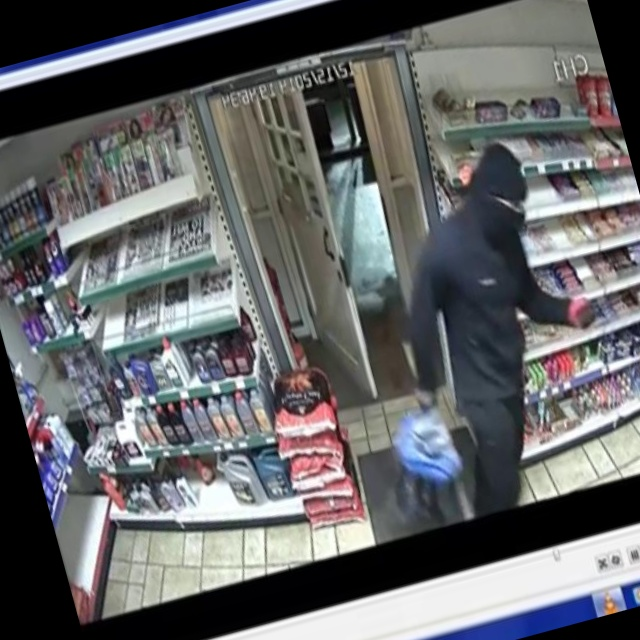gun: (557, 259, 632, 333)
